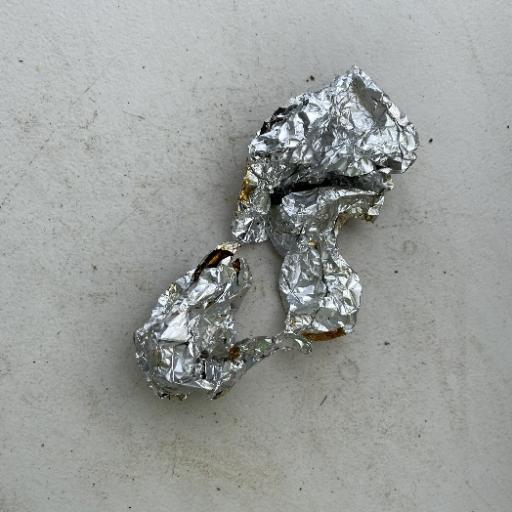Metal: (131, 62, 420, 402)
